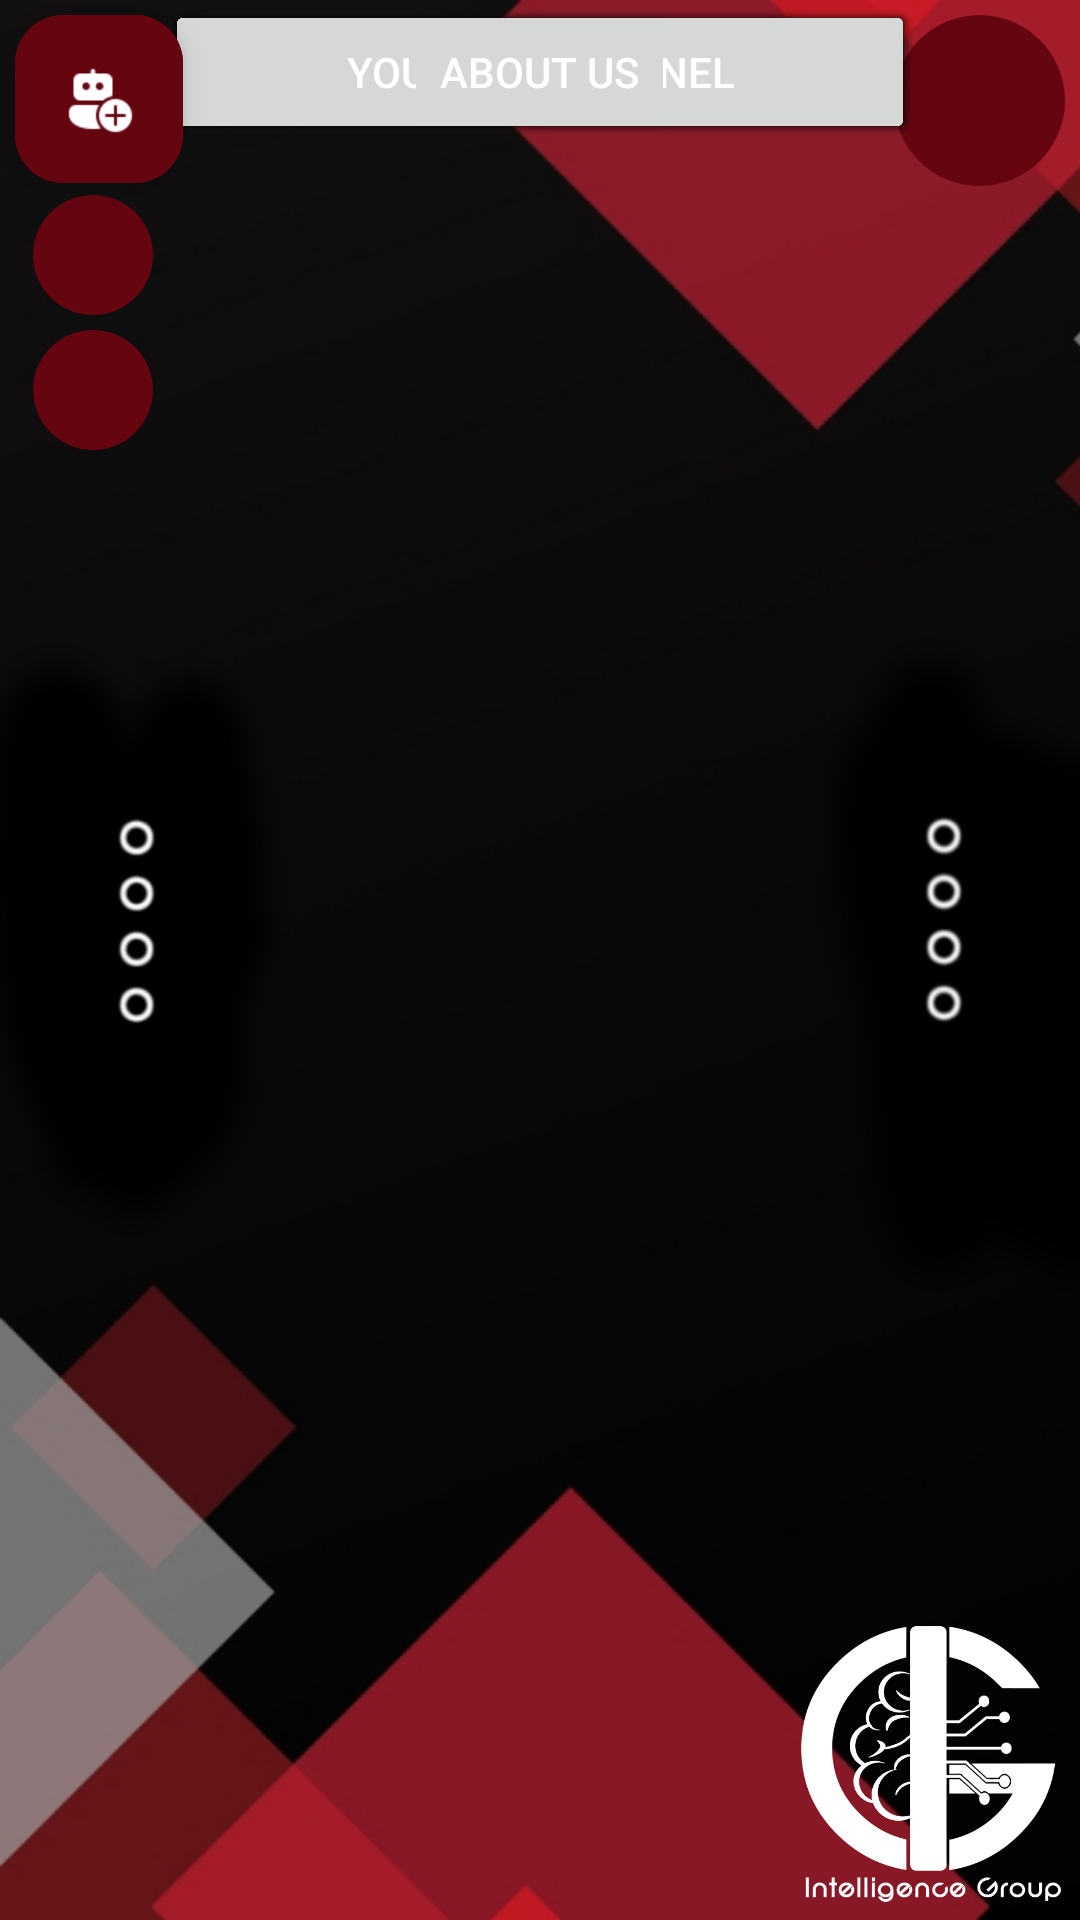

Named icons in this screenshot (1080 x 1920) and their bounding boxes, (x1, y1, x2, y2):
bot: (15, 15, 183, 183)
